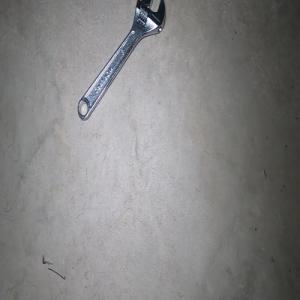Wrench: (77, 0, 165, 120)
